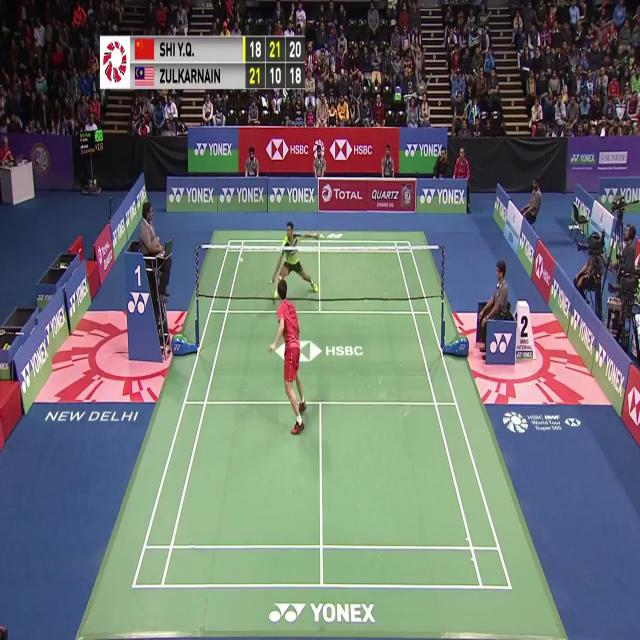Shuttlecock: (238, 255, 245, 266)
